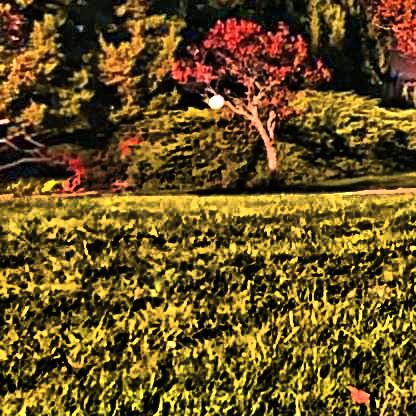golfball: (205, 90, 222, 107)
